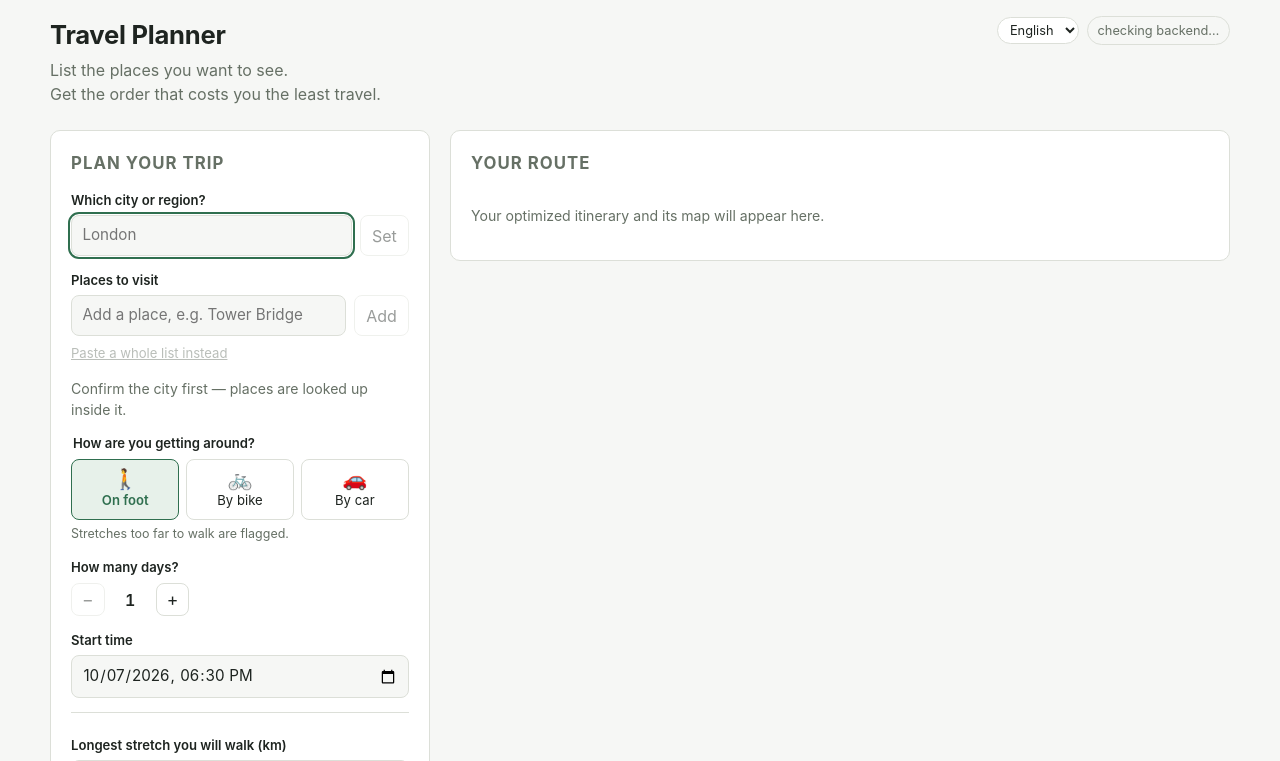
Test case: a too-far failure is phrased in the reader’s language
Select "Italiano" in the dropdown named "switch language" at coordinates (1038, 31), box left=997, top=17, right=1079, bottom=44
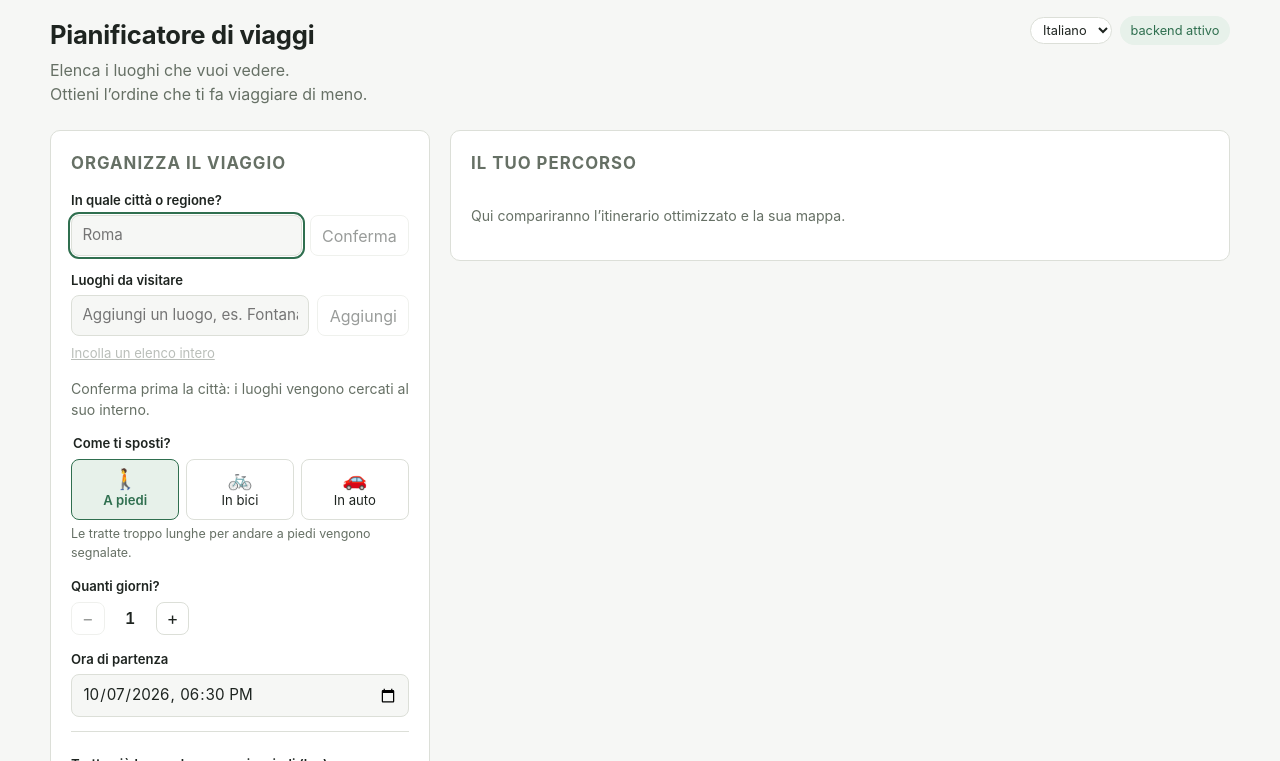
Type "Sicilia" into the field with placeholder "Roma" at coordinates (186, 236), box left=71, top=216, right=302, bottom=256
Click the button "Conferma" at coordinates (359, 236), box left=310, top=216, right=409, bottom=256
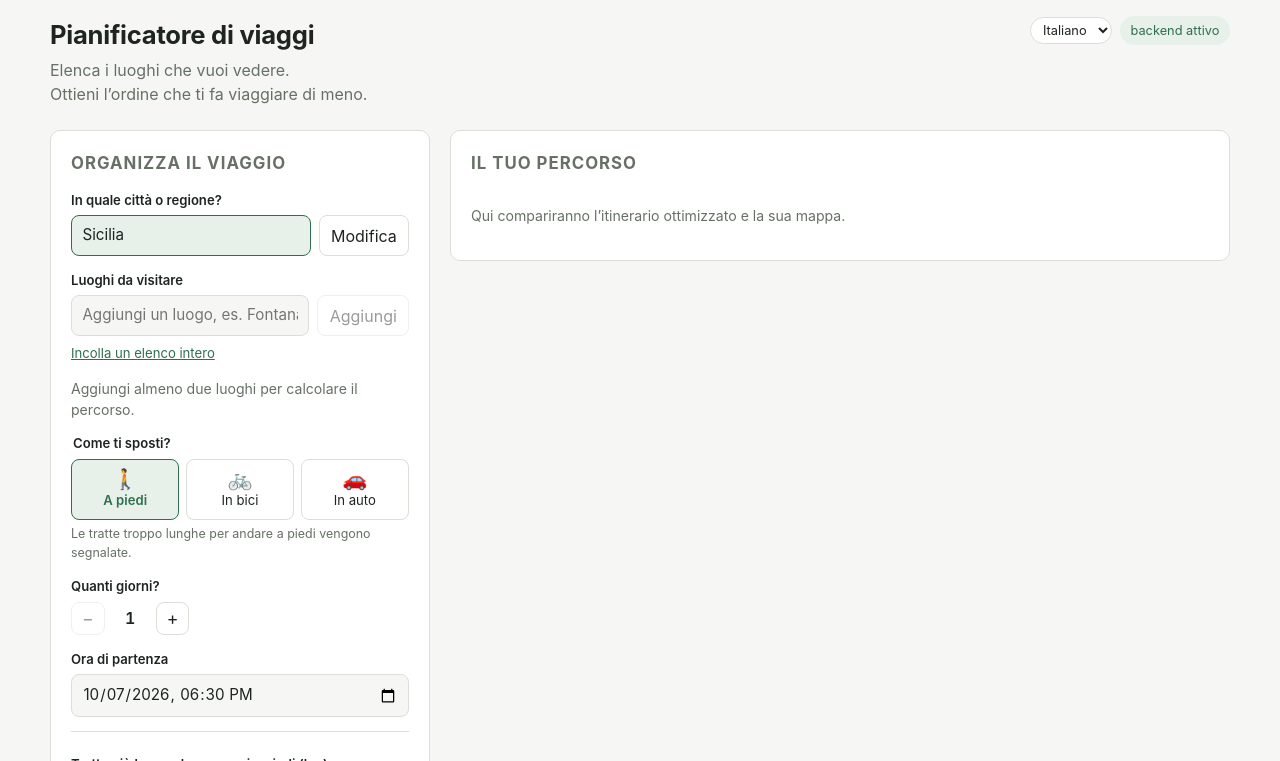
Type "marsala" into the field with placeholder "Aggiungi un luogo, es. Fontana di Trevi" at coordinates (190, 316), box left=71, top=295, right=310, bottom=336
Press Enter in the field with placeholder "Aggiungi un luogo, es. Fontana di Trevi", box left=71, top=295, right=310, bottom=336
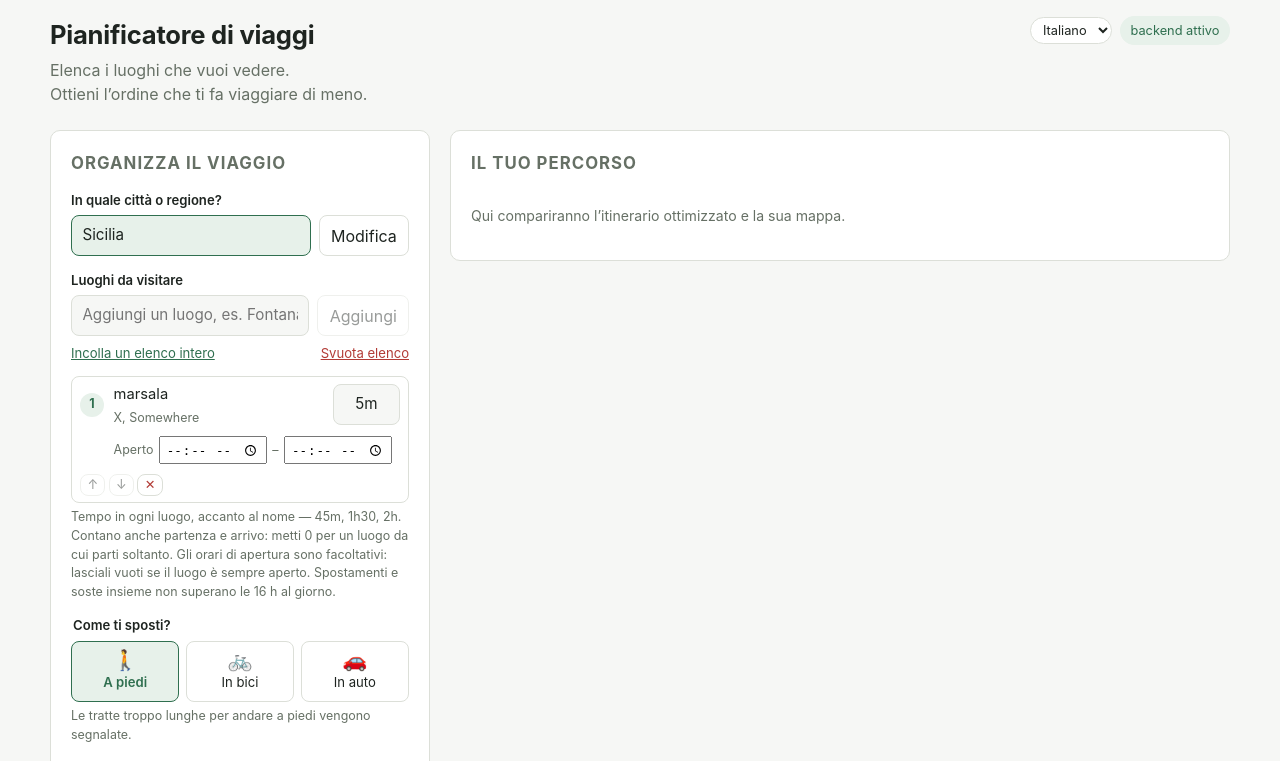
Now the field with placeholder "Aggiungi un luogo, es. Fontana di Trevi" is empty
Type "siracusa" into the field with placeholder "Aggiungi un luogo, es. Fontana di Trevi" at coordinates (190, 316), box left=71, top=295, right=310, bottom=336
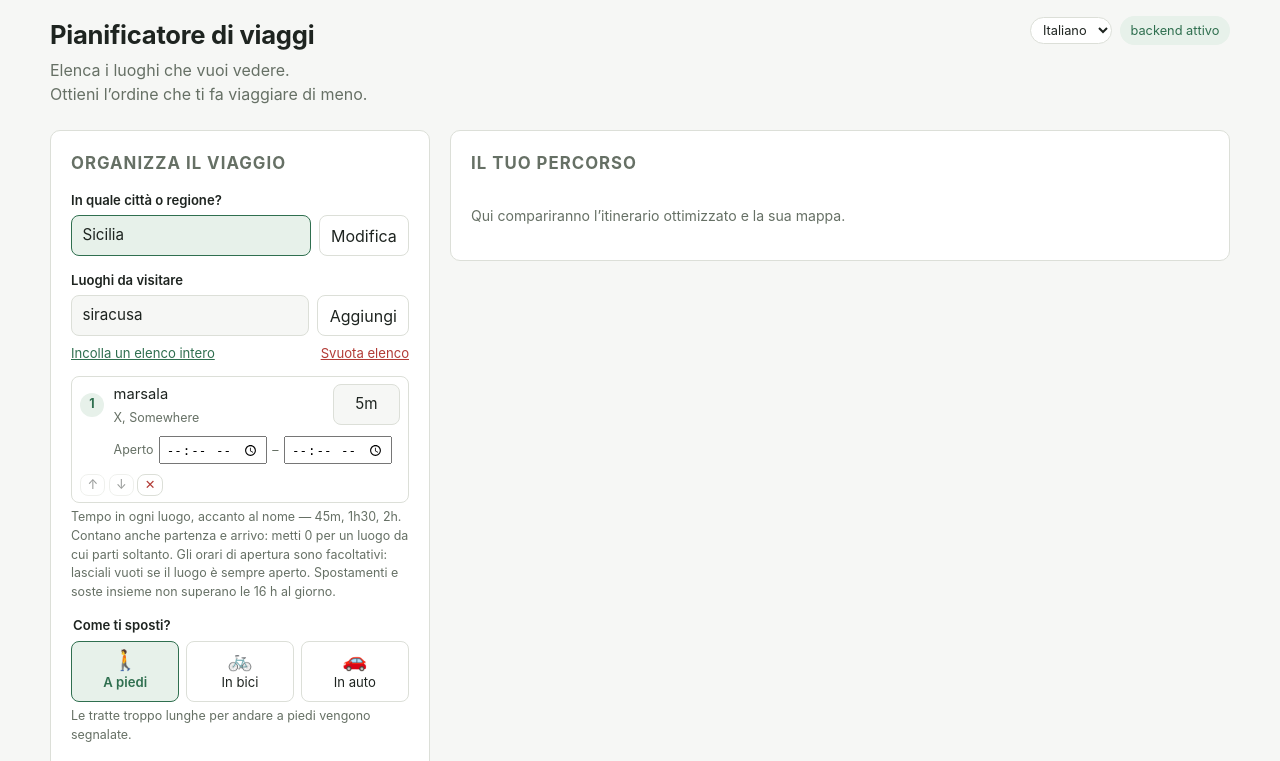
Press Enter in the field with placeholder "Aggiungi un luogo, es. Fontana di Trevi", box left=71, top=295, right=310, bottom=336
(page scrolled)
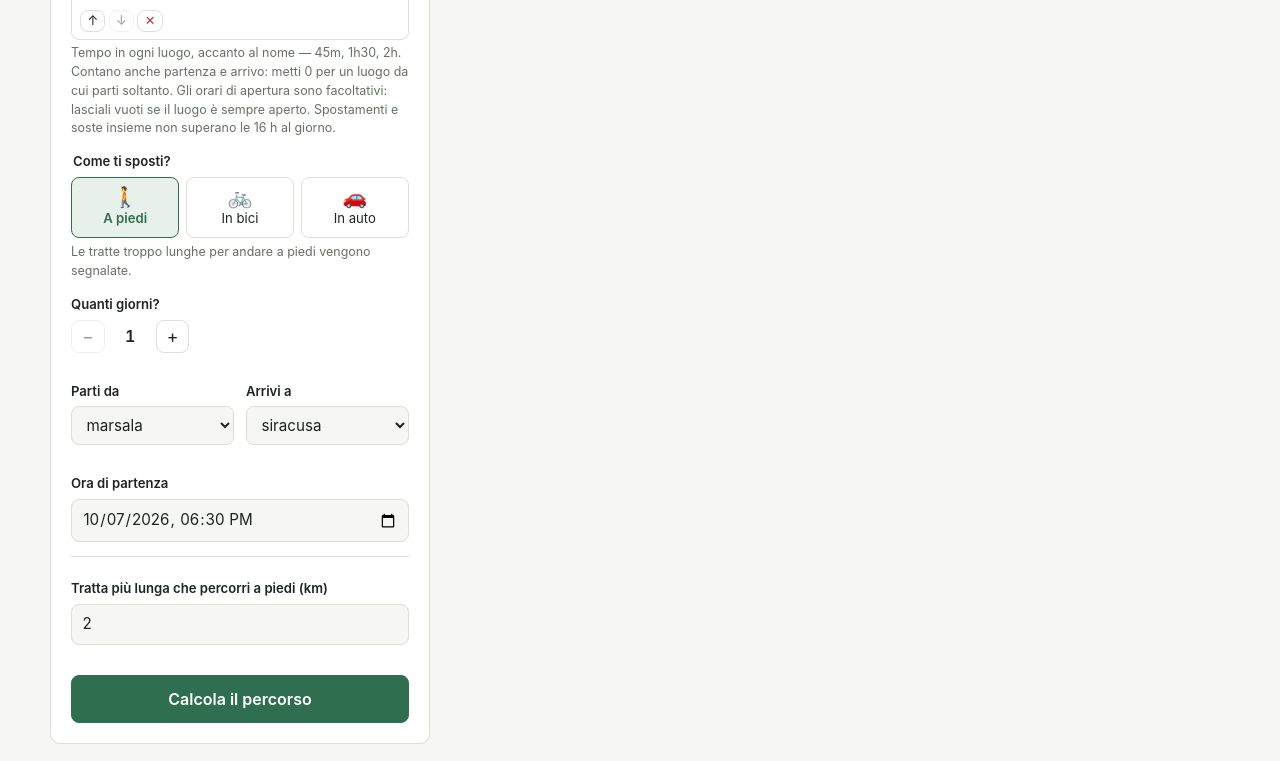
Click the button "Calcola il percorso" at coordinates (240, 699), box left=71, top=675, right=409, bottom=723
(page scrolled)
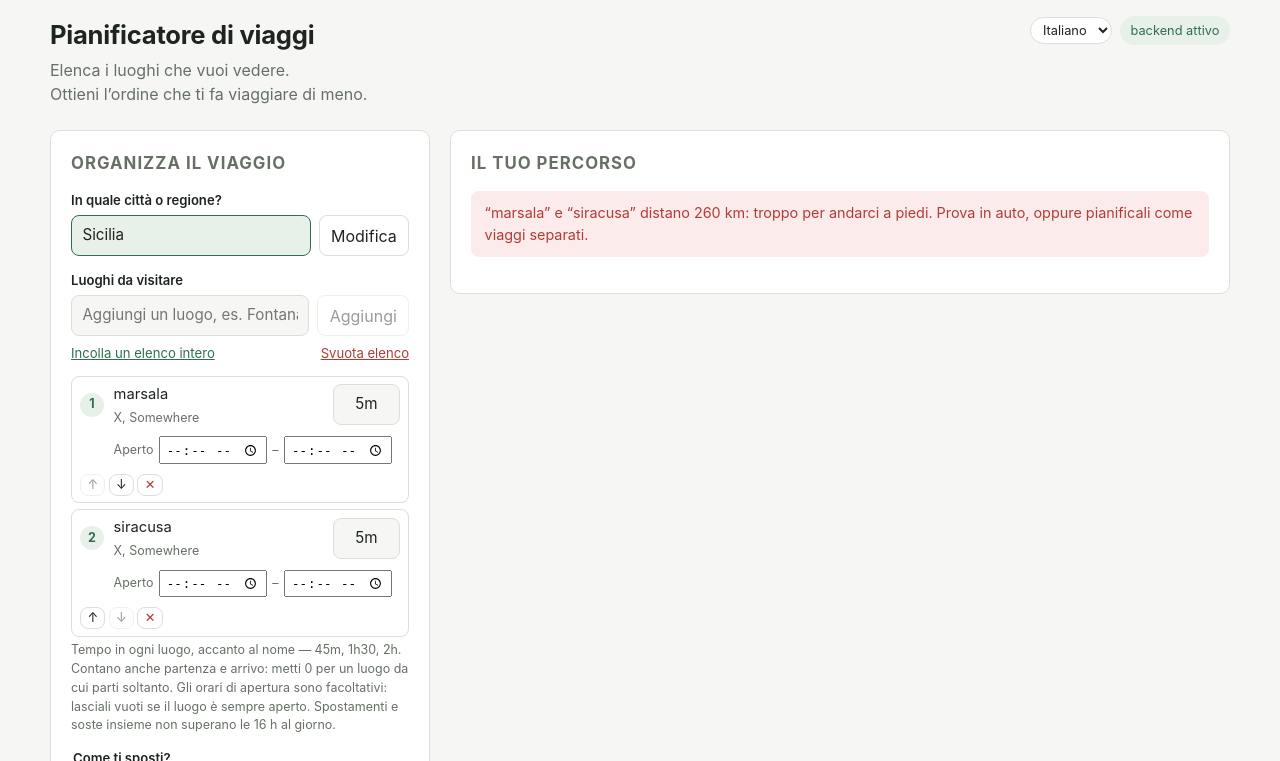
Expected: the text "troppo per andarci a piedi" does not show "max distance limit", left=471, top=191, right=1209, bottom=257
Now the text "troppo per andarci a piedi" shows "260 km", box left=485, top=204, right=1192, bottom=243
Now the text "troppo per andarci a piedi" shows "marsala", box left=485, top=204, right=1192, bottom=243
